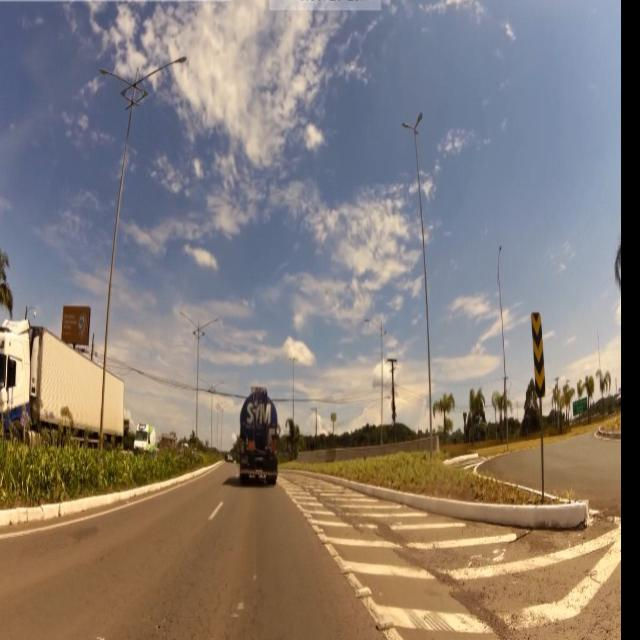MP: (532, 312, 549, 399)
